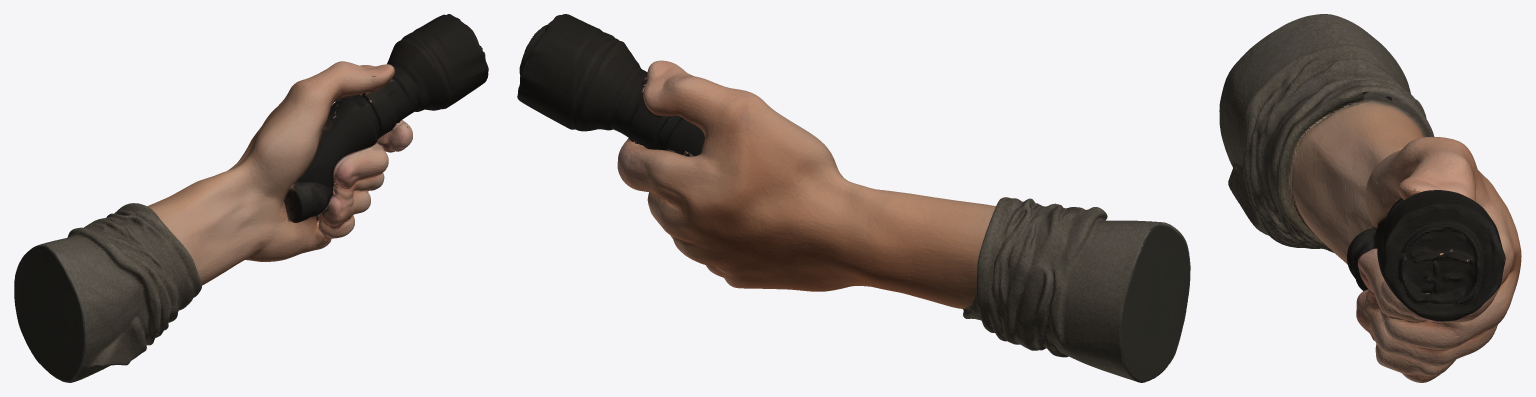
File: hand_holding_torch_lite.glb
3 renders of one model, left to right at view 1: azimuth 30°, elevation 25°; view 2: azimuth 150°, elevation 25°; view 3: azimuth 270°, elevation 25°, orthographic. The views are drawn at different scales.
Parts seen in each view (by area): view 1: world; view 2: world; view 3: world.
Boxes of the visible parts, bbox=[...] form: world: bbox=[14, 14, 488, 382]; world: bbox=[517, 14, 1190, 382]; world: bbox=[1219, 14, 1521, 382].
Size of the model in its own units: 2 by 0.8771 by 0.7431.
Materials: 1 (1 with a texture image).
